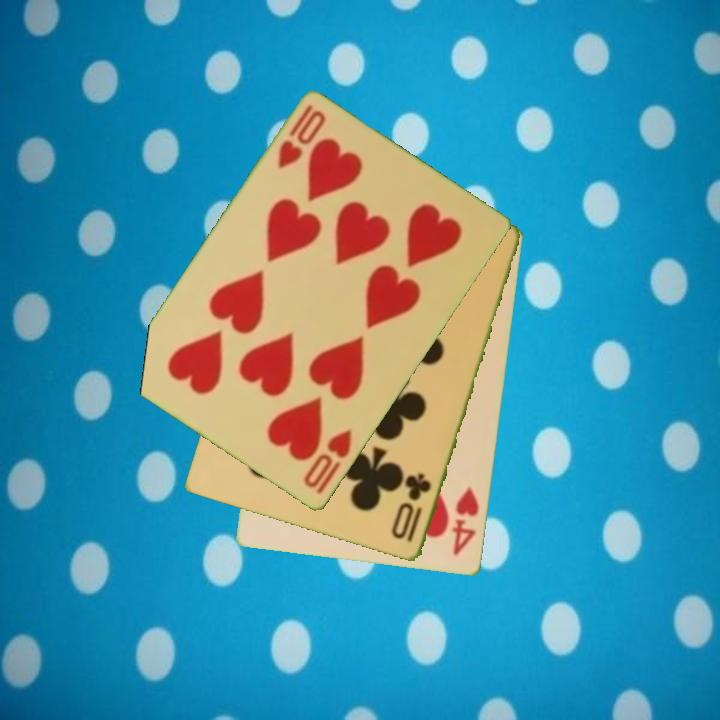10c: (388, 470, 434, 547)
10h: (300, 425, 355, 498), (274, 102, 329, 173)
4h: (448, 483, 483, 559)
